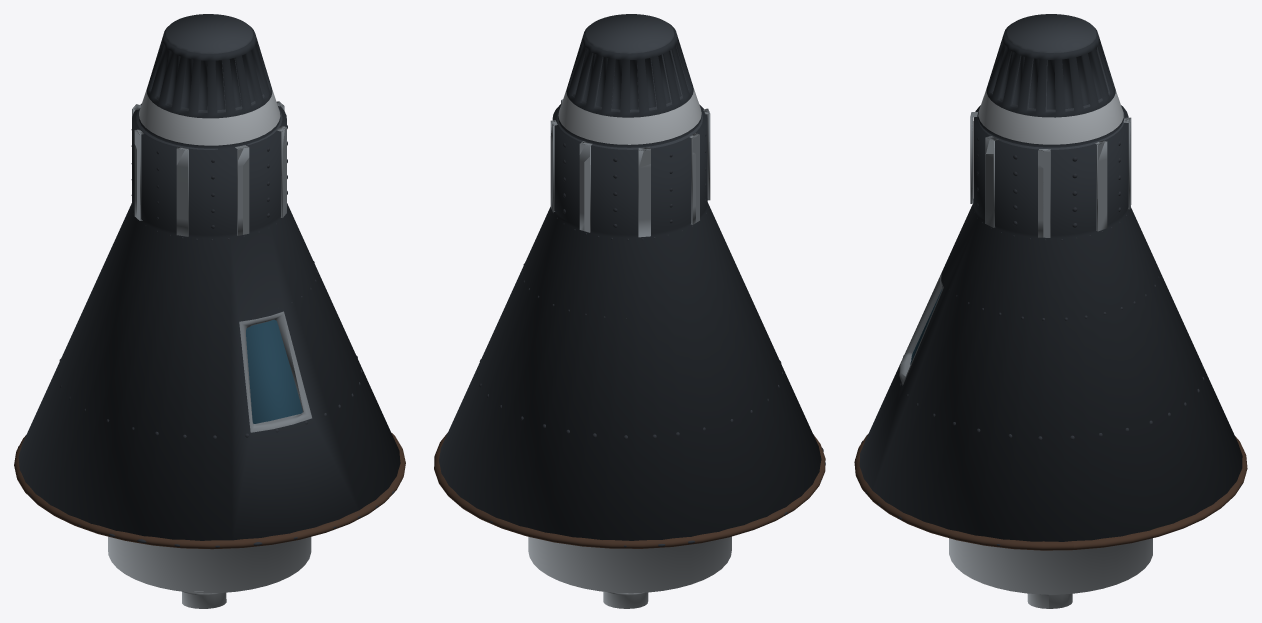
Rendered from atlas-mercury.glb.
The picture shows the model from 3 angles, left to right: view 1: azimuth 30°, elevation 25°; view 2: azimuth 150°, elevation 25°; view 3: azimuth 270°, elevation 25°; orthographic projection.
Parts seen in each view (by area): view 1: pCylinder2, group59 gr, group59214, group59215, group59 g1, group59 g3; view 2: pCylinder2, group59 g1, group59214, group59215, group59 g2; view 3: pCylinder2, group59214, group59 g1, group59215, group59 g4.
Boxes of the visible parts, bbox=[...] form: pCylinder2: bbox=[18, 25, 400, 593]; group59 gr: bbox=[246, 319, 302, 423]; group59214: bbox=[14, 433, 405, 549]; group59215: bbox=[132, 101, 286, 236]; group59 g1: bbox=[136, 14, 282, 149]; group59 g3: bbox=[182, 591, 226, 608]; pCylinder2: bbox=[439, 22, 821, 593]; group59 g1: bbox=[556, 14, 702, 149]; group59214: bbox=[434, 433, 825, 548]; group59215: bbox=[550, 99, 710, 237]; group59 g2: bbox=[603, 591, 648, 608]; pCylinder2: bbox=[859, 23, 1242, 594]; group59214: bbox=[854, 434, 1247, 550]; group59 g1: bbox=[978, 14, 1124, 149]; group59215: bbox=[970, 112, 1131, 237]; group59 g4: bbox=[1027, 593, 1072, 608].
Bounding box in the file's own units: 5.99 × 9.23 × 5.99.
